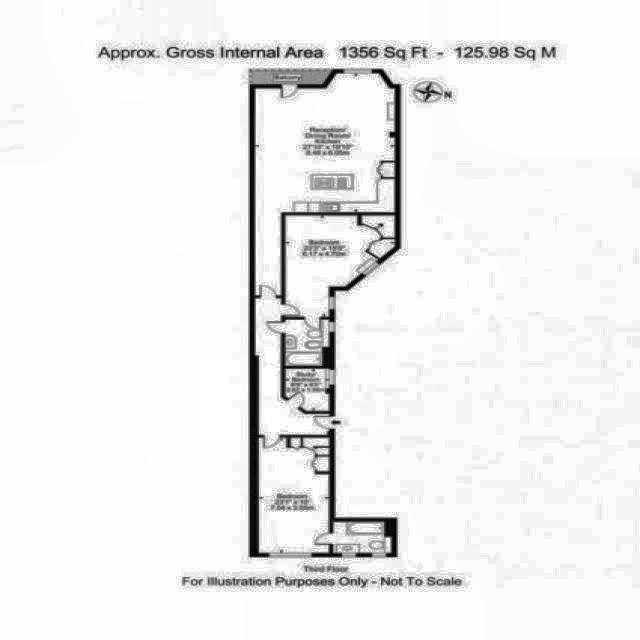room: (252, 73, 396, 296), (285, 215, 395, 318), (254, 299, 330, 434), (259, 437, 330, 553), (285, 319, 328, 367), (284, 369, 329, 411), (333, 522, 384, 552)
